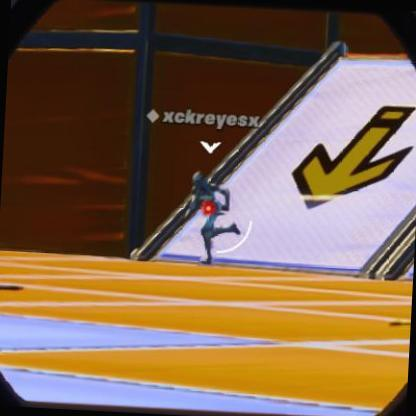person: (183, 173, 232, 258)
